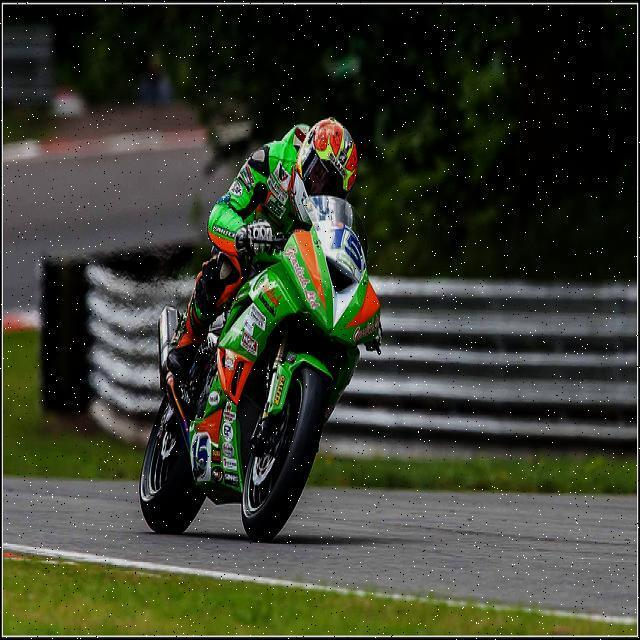motorcycle: (135, 195, 391, 554)
